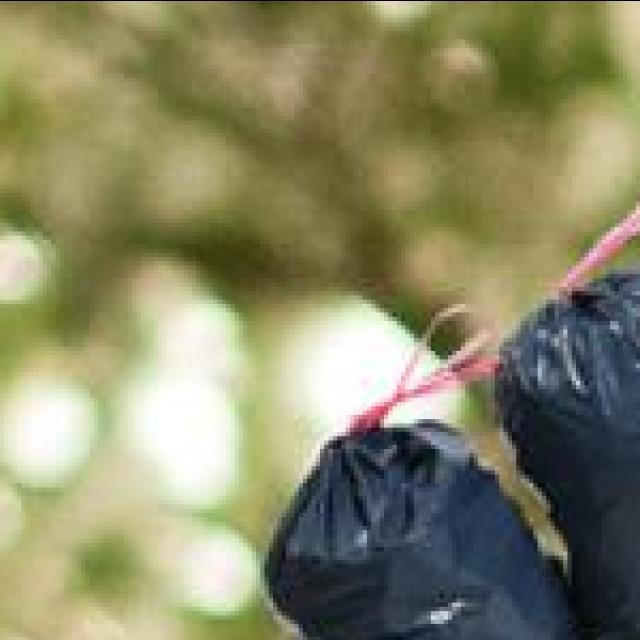Trashbag: (277, 421, 504, 637), (501, 284, 640, 490)
